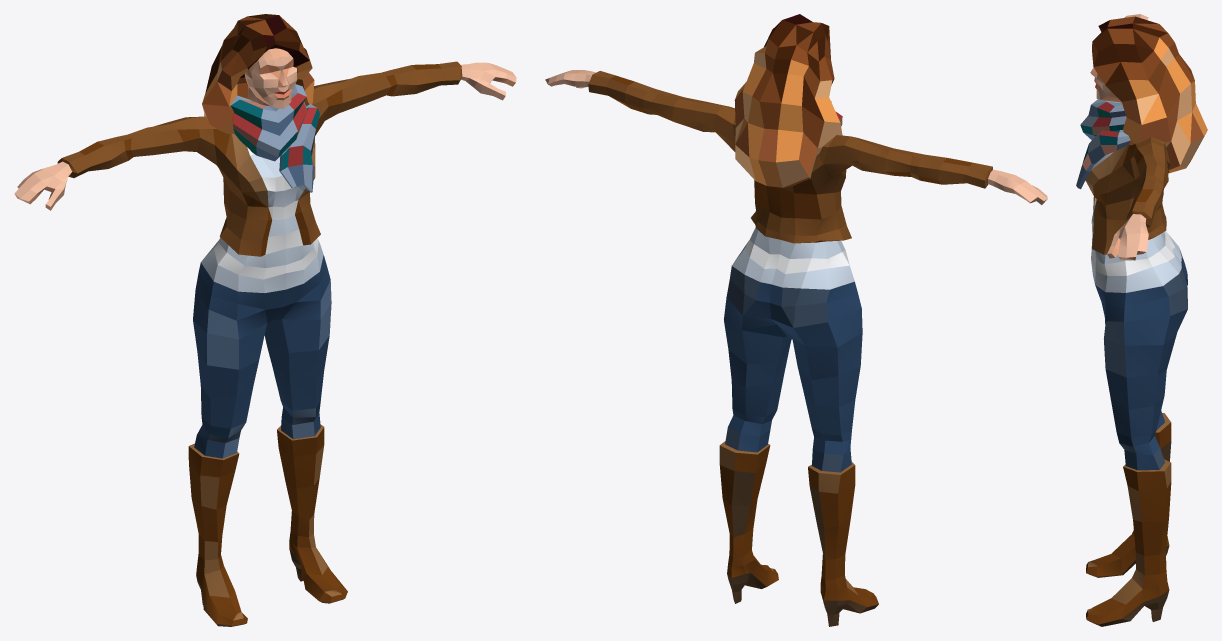
Rendered from winter_Female_B-model.obj.
3 views of the same model, side by side, from view 1: azimuth 30°, elevation 25°; view 2: azimuth 150°, elevation 25°; view 3: azimuth 270°, elevation 25° (orthographic).
Visible parts, largest first — view 1: winter_Female_B, acc_hair_long, acc_scarf; view 2: winter_Female_B, acc_hair_long; view 3: winter_Female_B, acc_hair_long, acc_scarf.
Part boxes in pixels (box(x1,y1,x2,y2)): winter_Female_B: box(14, 48, 516, 626); acc_hair_long: box(202, 14, 314, 134); acc_scarf: box(230, 84, 319, 192); winter_Female_B: box(545, 70, 1047, 626); acc_hair_long: box(734, 14, 842, 187); winter_Female_B: box(1085, 14, 1187, 626); acc_hair_long: box(1092, 16, 1207, 173); acc_scarf: box(1076, 99, 1130, 189).
Size of the model in its own units: 154 by 172 by 35.68.
